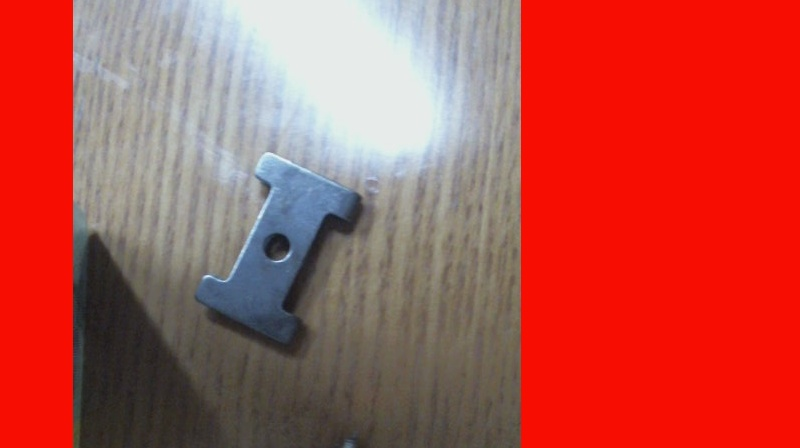O002: (192, 145, 365, 350)
S001: (249, 431, 363, 447)
